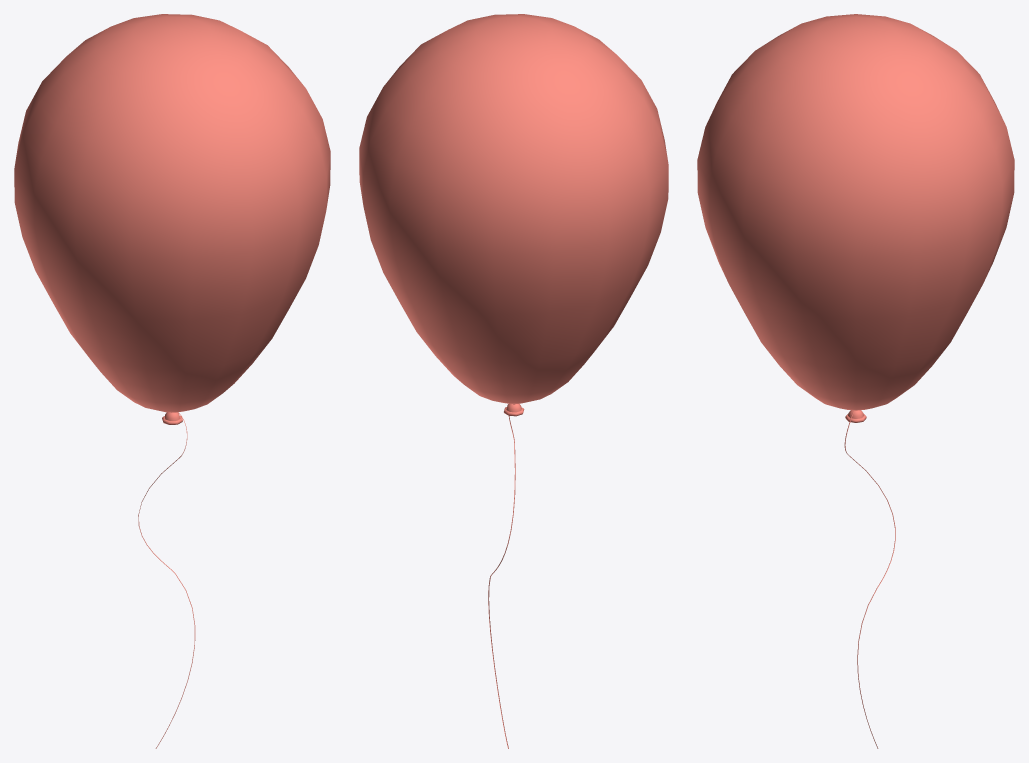
Rendered from ballon_red.glb.
The picture shows the model from 3 angles, left to right: view 1: azimuth 30°, elevation 25°; view 2: azimuth 150°, elevation 25°; view 3: azimuth 270°, elevation 25°; orthographic projection. The views are drawn at different scales.
Visible parts, largest first — view 1: Balloon_red; view 2: Balloon_red; view 3: Balloon_red.
Part boxes in pixels (<box>): Balloon_red: <box>14,14,330,748</box>; Balloon_red: <box>359,14,668,748</box>; Balloon_red: <box>697,14,1014,748</box>.
Size of what is drawn, in the model's own units: 0.2648 by 0.664 by 0.2648.
